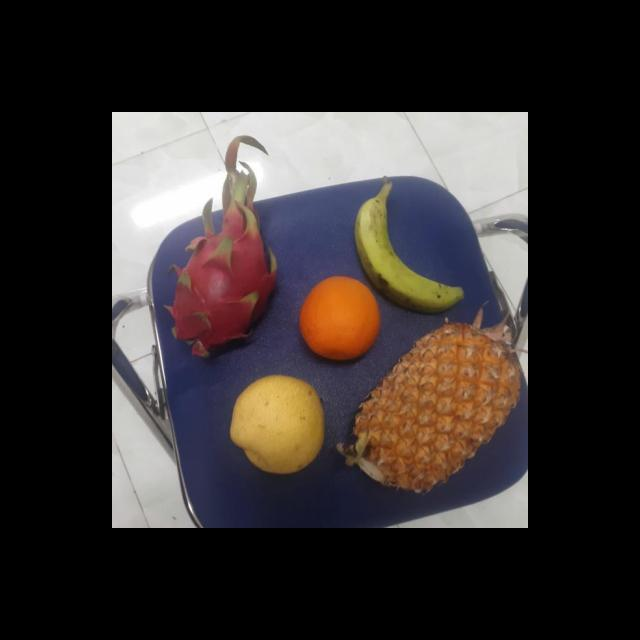banana: (355, 182, 466, 315)
orange: (294, 273, 383, 362)
pear: (230, 374, 330, 473)
pineapple: (345, 326, 526, 497)
pitaya: (161, 203, 285, 359)
